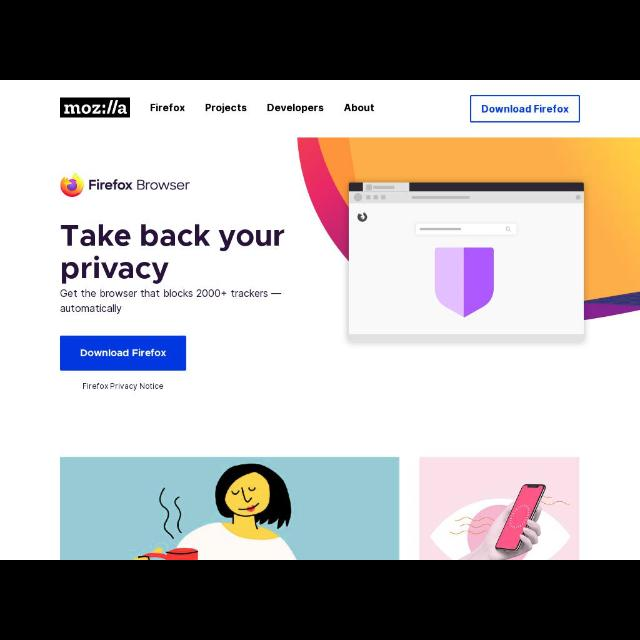backgroundimage: (1, 80, 640, 560)
image: (60, 98, 130, 116), (61, 174, 84, 196)
text: (62, 224, 284, 252), (63, 256, 169, 284), (60, 289, 268, 297), (89, 178, 189, 190), (482, 105, 568, 113), (80, 349, 166, 357), (267, 102, 323, 114), (83, 383, 163, 391), (61, 304, 121, 314), (206, 103, 247, 113), (150, 102, 186, 111), (344, 104, 374, 110)
textbutton: (60, 336, 186, 370), (470, 96, 580, 122)
